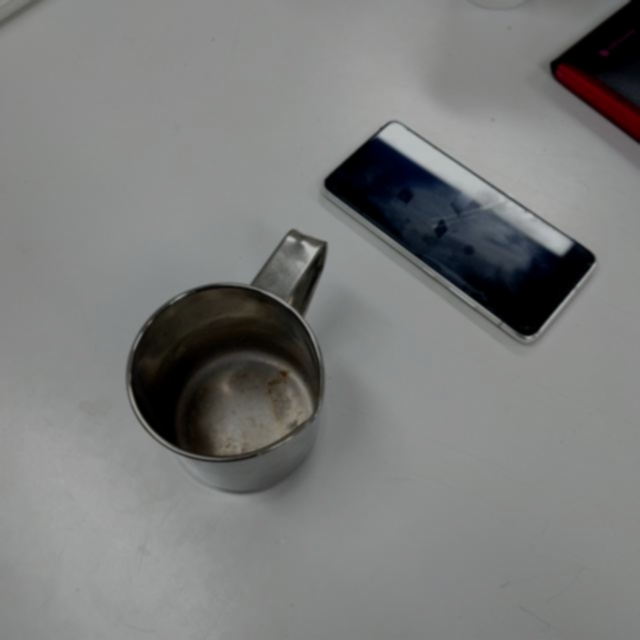cup: (126, 227, 328, 493)
phone: (321, 117, 598, 347)
